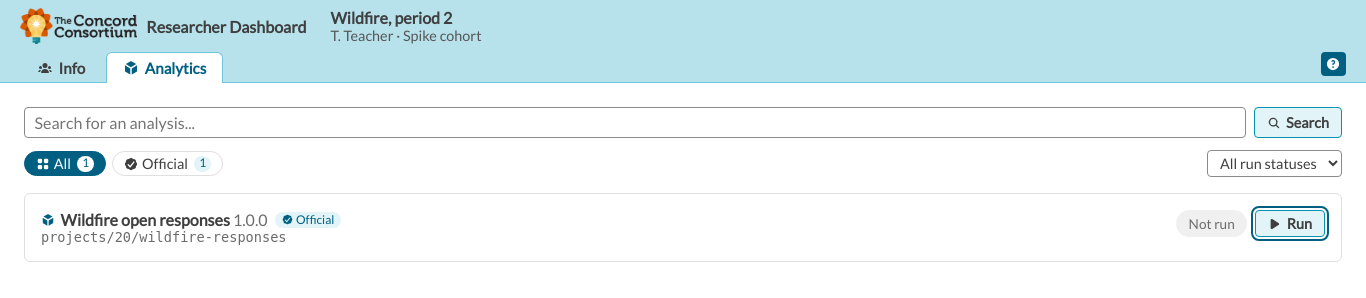
it: running a package › asks the portal to run the row's package at its current version, and says so while it asks
Expected: the heading "Wildfire, period 2" is shown, [331,8,452,27]
Expected: the link "Wildfire open responses" is shown, [41,210,230,229]
Click the button "Run": point(1290, 224) [1255,210,1325,237]
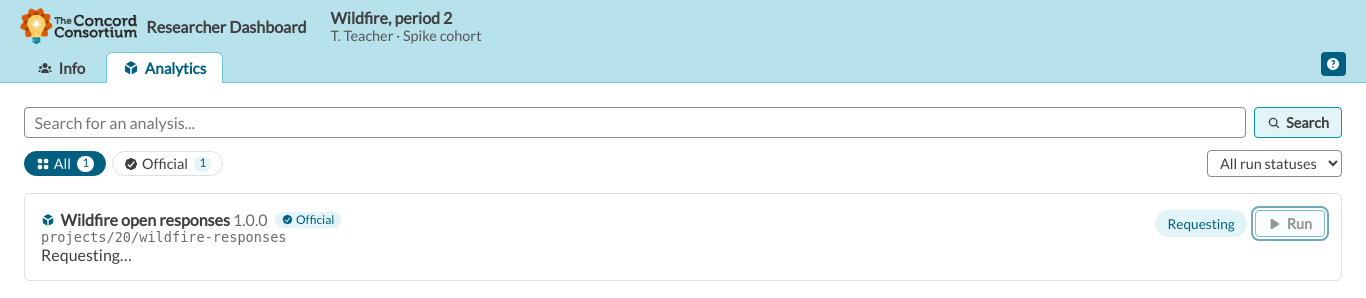
Expected: the text "Requesting…" is shown, [41,245,132,264]
Expected: the button "Run" is enabled
Click the button "Run": point(1290, 224) [1255,210,1325,237]
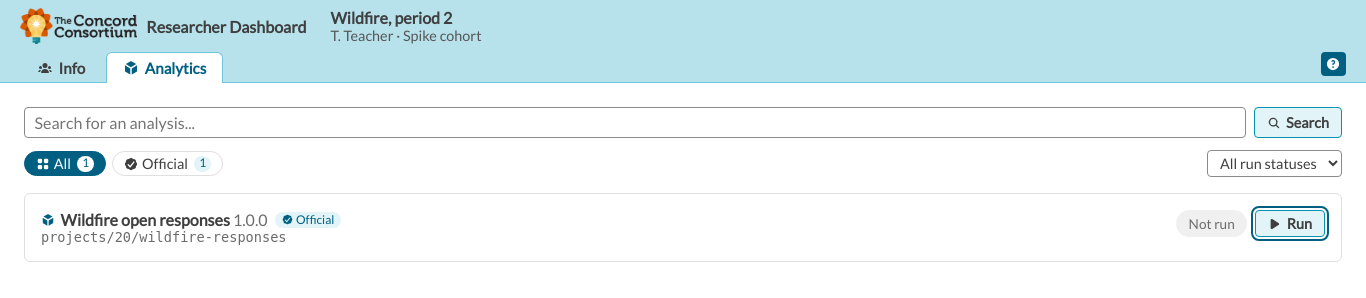
Expected: the text "Requesting…" is gone
